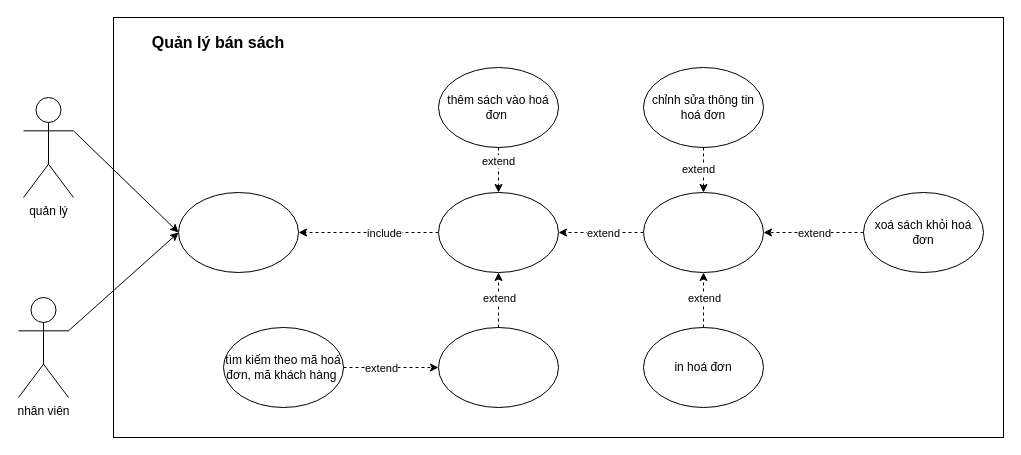
This 1021x455 diagram has some shape labels left out. Each missing label, with the box of its shape:
quản lý nhập sách: (438, 192, 558, 272)
xem danh sách tất cả hoá đơn: (438, 326, 558, 408)
xem thông tin chi tiết hoá đơn: (642, 192, 764, 272)
đăng nhập: (178, 192, 298, 272)
